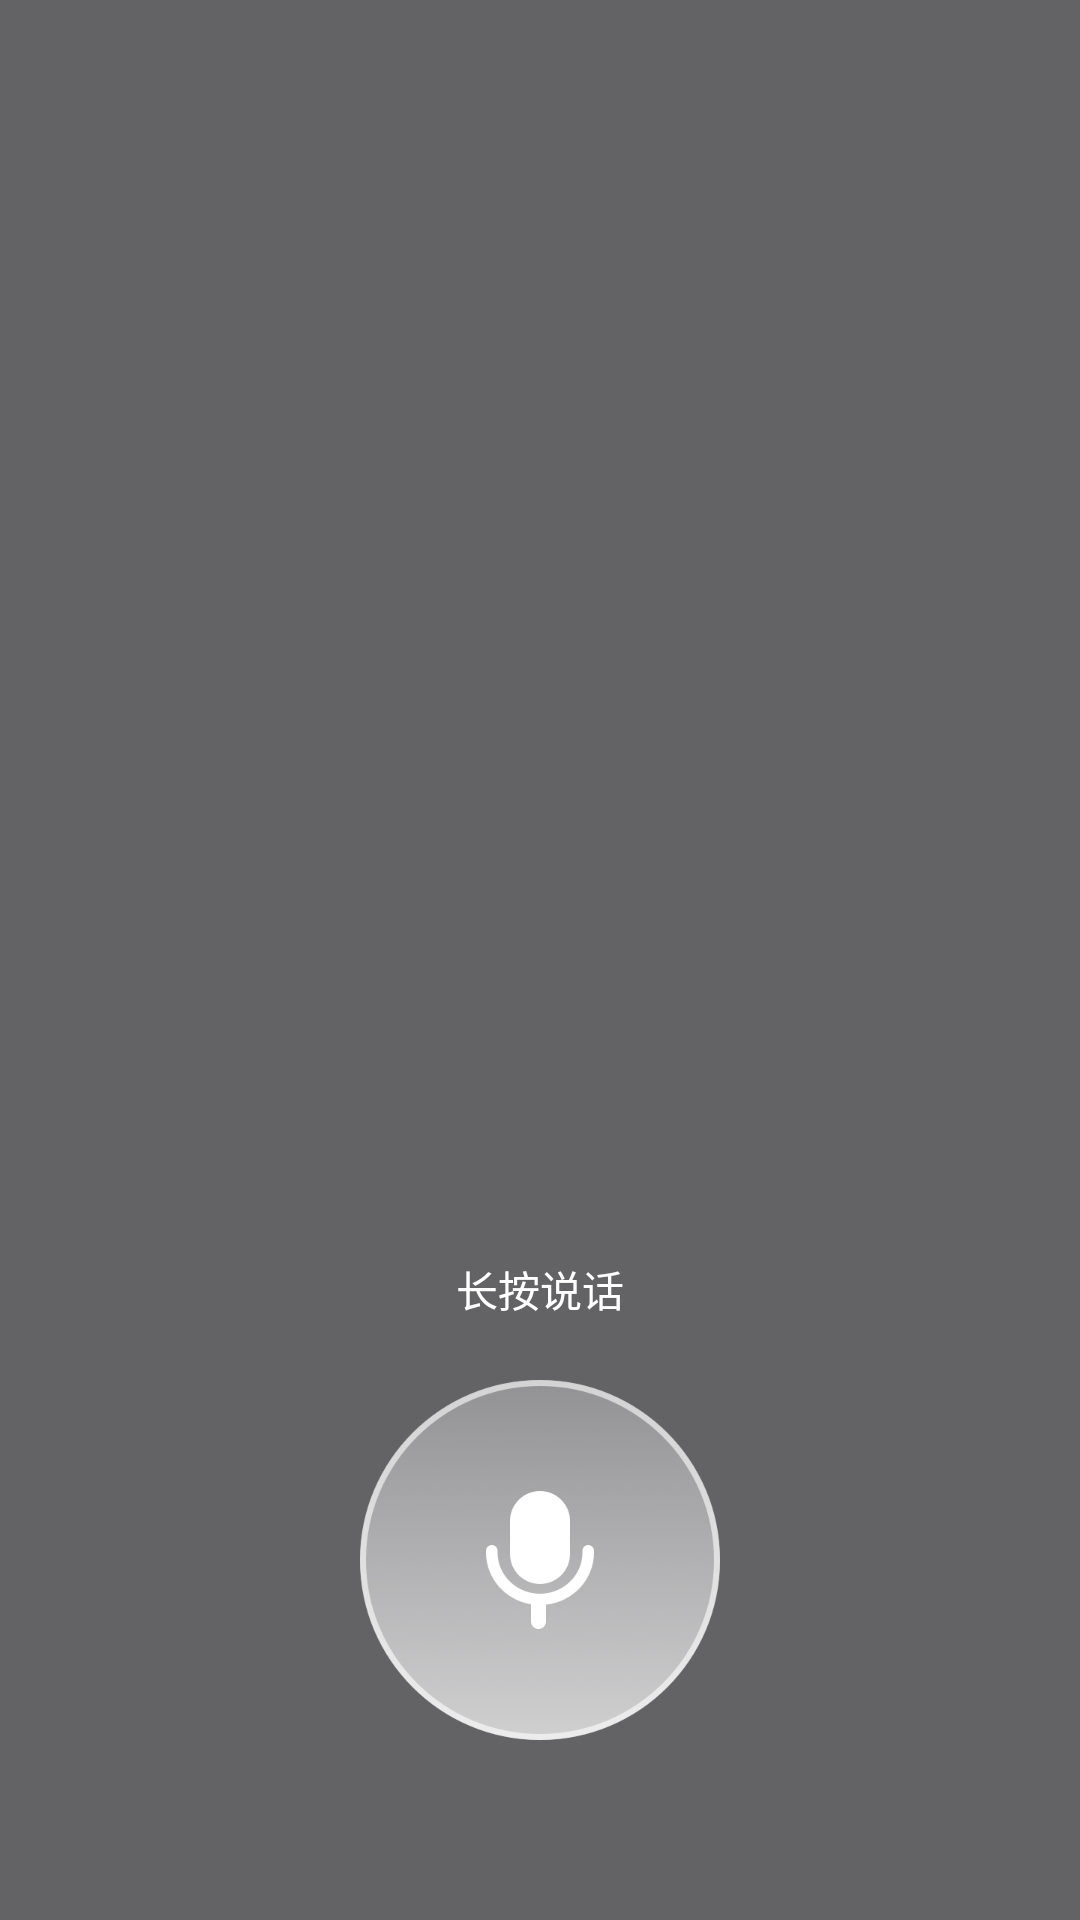

Named icons in this screenshot (1080x1920) and their centers, point (x, y):
audio def: point (540, 1560)
